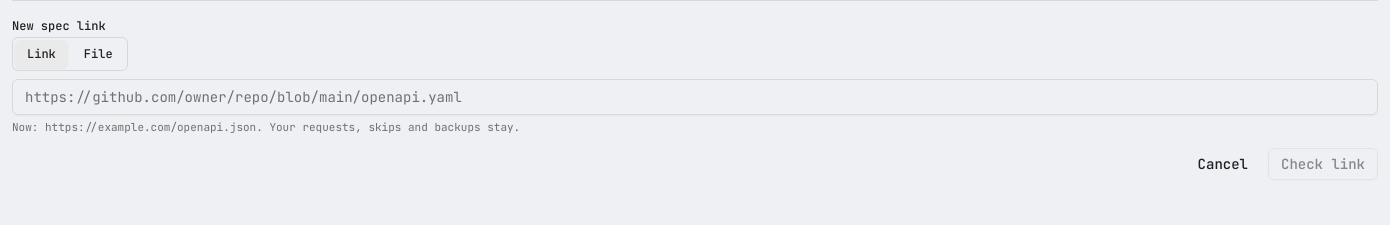
it: ChangeLinkForm › a_failed_preview_shows_only_a_fixed_sentence
The width and height of the screenshot is (1390, 225).
Step 1. Type "https://example.com/other.json" into the field named "New spec link" → (695, 97), box [12, 79, 1378, 115]
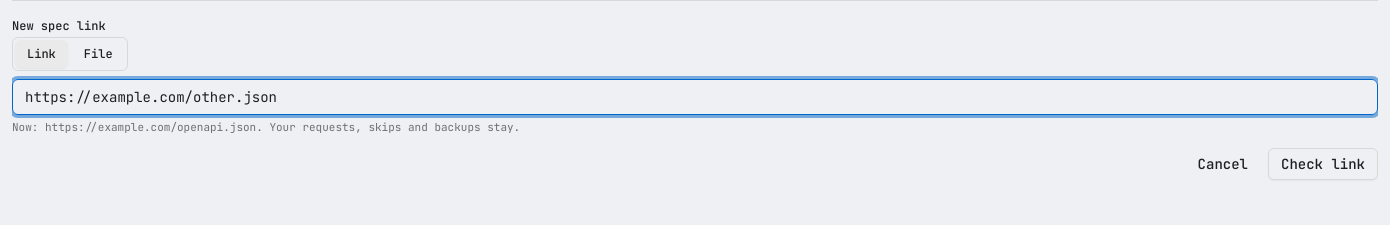
Step 2. Click the button "Check link" → (1323, 164), box [1268, 148, 1378, 180]
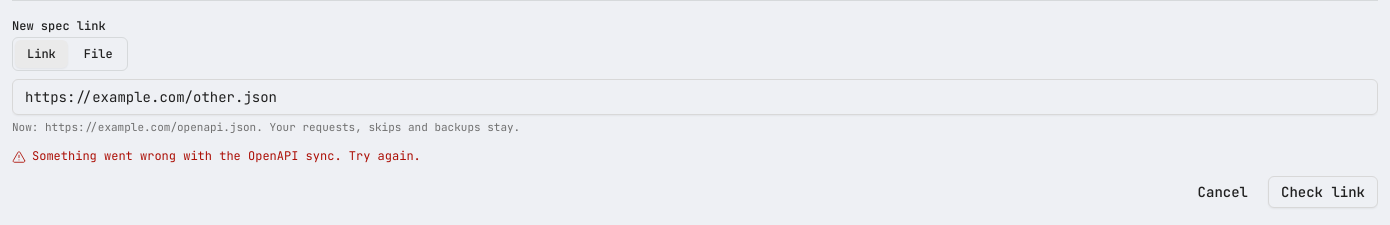
Expected: the message does not show "secret", [12, 148, 421, 164]
Result: the message reads "Something went wrong with the OpenAPI sync. Try again." at [32, 148, 421, 164]
